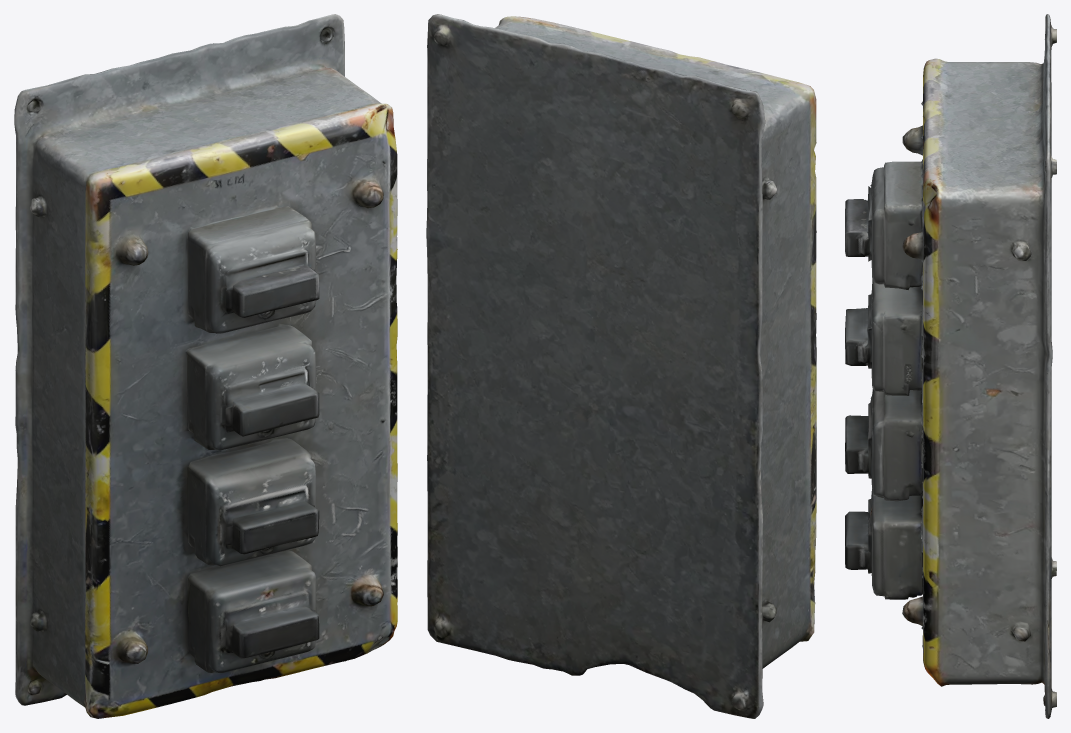
File: breaker_box.fbx
3 renders of one model, left to right at view 1: azimuth 30°, elevation 25°; view 2: azimuth 150°, elevation 25°; view 3: azimuth 270°, elevation 25°, orthographic. The views are drawn at different scales.
Parts seen in each view (by area): view 1: breaker_box; view 2: breaker_box; view 3: breaker_box.
Part boxes in pixels (x1,y1,x2,y2): breaker_box: (14, 14, 397, 718); breaker_box: (426, 14, 816, 718); breaker_box: (845, 14, 1056, 718).
Bounding box in the file's own units: 0.4481 × 0.7998 × 0.2709.
1 material, 1 textured.
